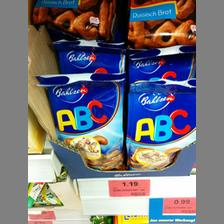Schokolade: (34, 69, 126, 169), (125, 74, 195, 169), (123, 0, 195, 50), (31, 0, 116, 40)
